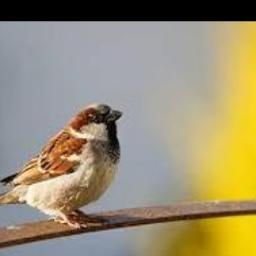Sparrow: (0, 103, 123, 229)
